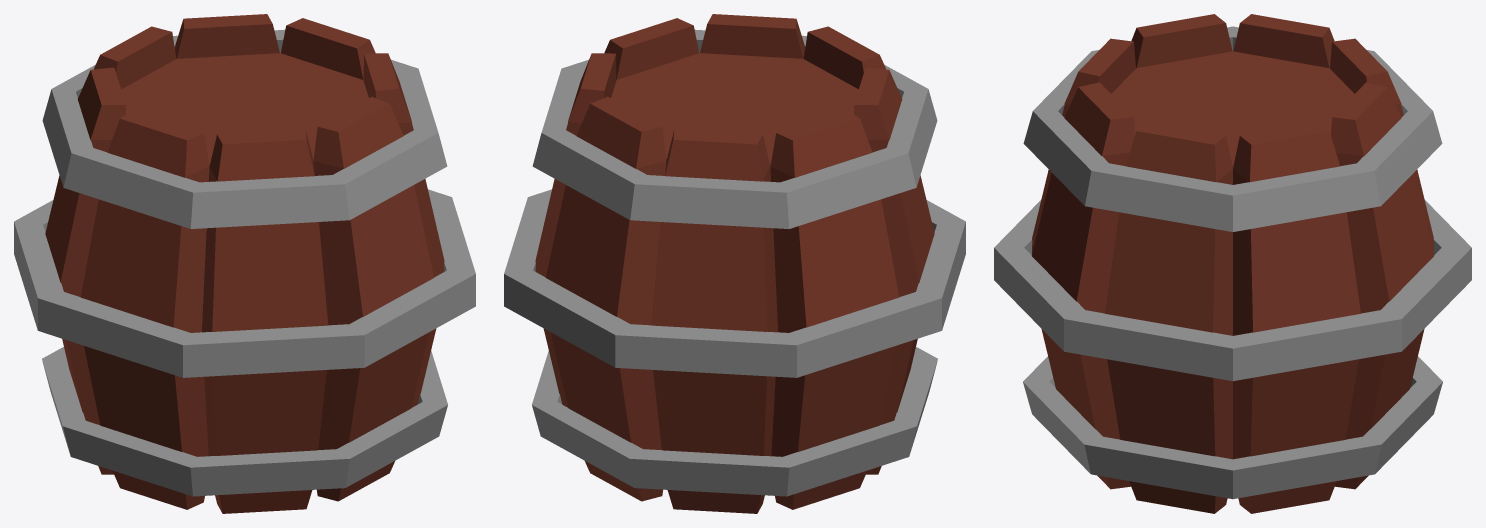
The model's file is Barrel_2.fbx.
3 views of the same model, side by side, from view 1: azimuth 30°, elevation 25°; view 2: azimuth 150°, elevation 25°; view 3: azimuth 270°, elevation 25° (orthographic).
Visible parts, largest first — view 1: Barrel_2; view 2: Barrel_2; view 3: Barrel_2.
Boxes of the visible parts, left/top/right/bottom form: Barrel_2: left=14, top=14, right=475, bottom=513; Barrel_2: left=504, top=14, right=965, bottom=513; Barrel_2: left=994, top=14, right=1471, bottom=513.
Bounding box in the file's own units: 77.98 × 77.98 × 66.48.
